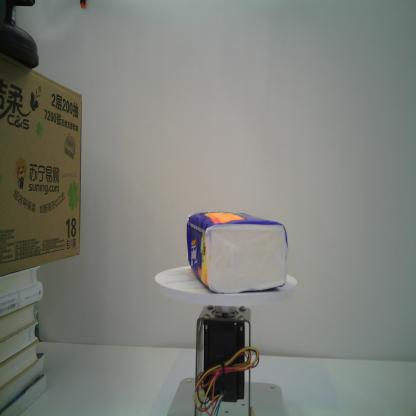Tissue: (186, 210, 290, 294)
